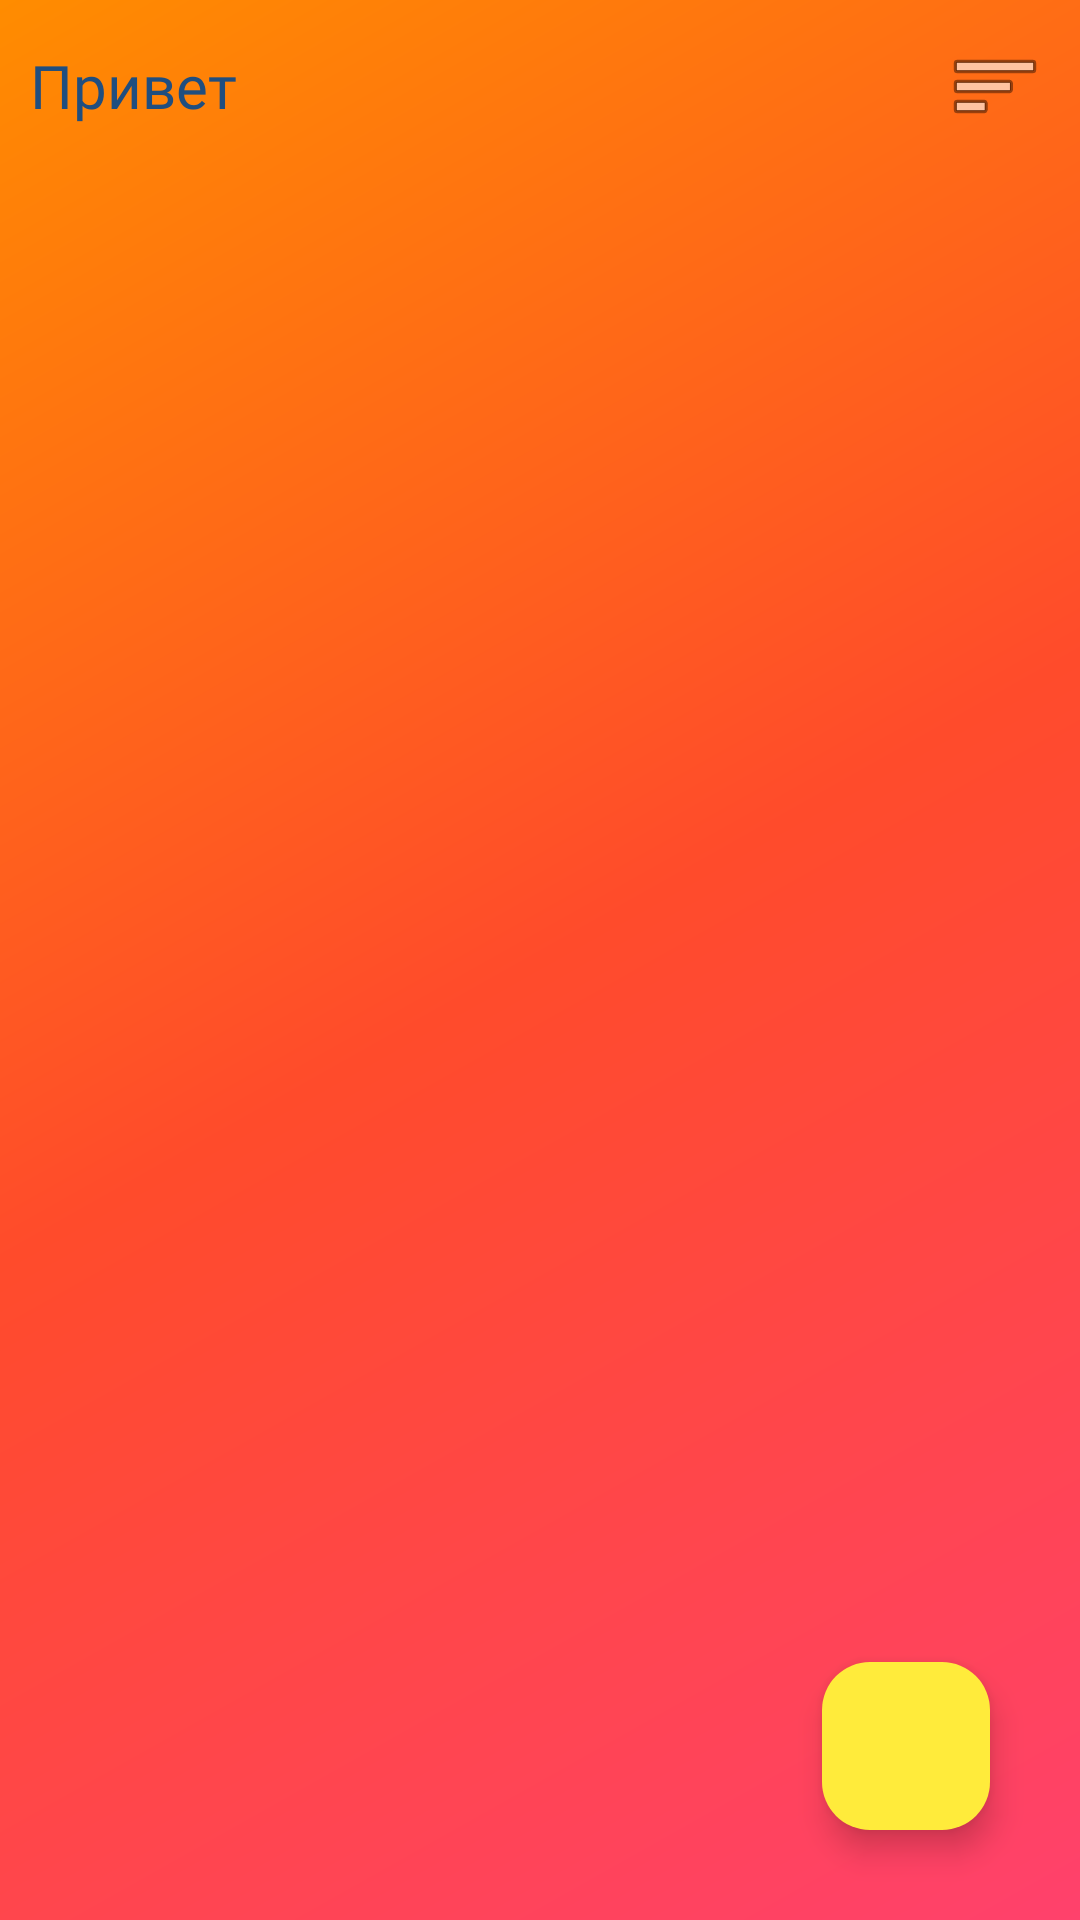

Icons on this 1080w x 1920h Android screen, each with the point to tap as (x,y):
Меню: (995,86)
